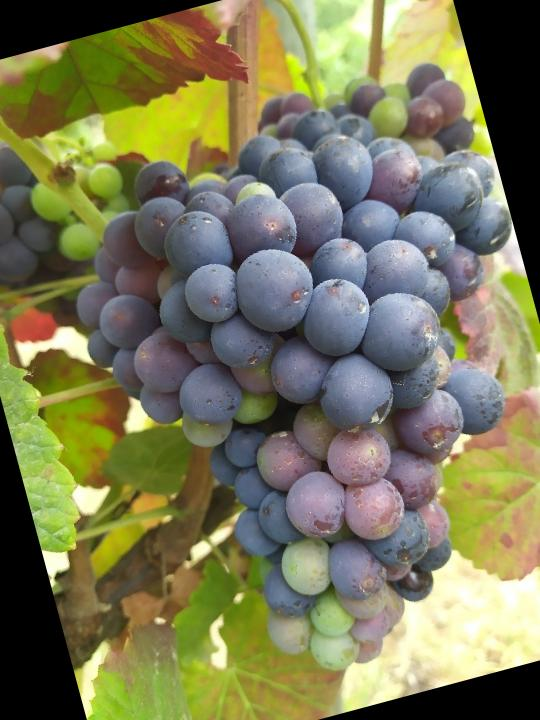grape: (31, 73, 540, 720)
